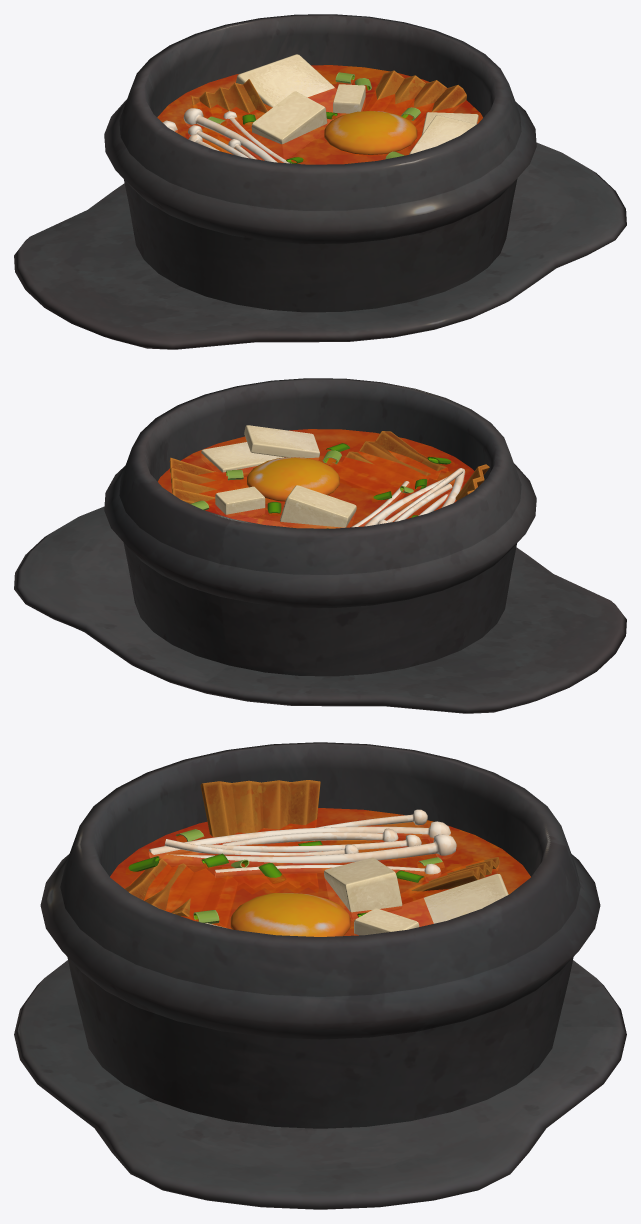
Rendered from kimchi_jjigae.glb.
3 renders of one model, top to bottom at view 1: azimuth 30°, elevation 25°; view 2: azimuth 150°, elevation 25°; view 3: azimuth 270°, elevation 25°, orthographic. The views are drawn at different scales.
Visible parts, largest first — view 1: Pot_Reduced, Soup, Egg_Yolk, Tofu_2_LowRes, Tofu_1_LowRes, Kimchi_Piece, Kimchi_Piece2, Tofu_1_LowRes2, Mushroom_Geo1, Tofu_2_LowRes1, Mushroom_Geo3; view 2: Pot_Reduced, Soup, Kimchi_Piece3, Egg_Yolk, Tofu_2_LowRes, Kimchi_Piece, Tofu_1_LowRes2, Tofu_1_LowRes1, Tofu_2_LowRes1, Mushroom_Geo1, Mushroom_Geo5, Kimchi_Piece1; view 3: Pot_Reduced, Soup, Kimchi_Piece1, Egg_Yolk, Kimchi_Piece3, Tofu_2_LowRes, Mushroom_Geo1, Tofu_1_LowRes, Mushroom_Geo, Kimchi_Piece2, Mushroom_Geo4, Mushroom_Geo2 (+4 smaller).
Part boxes in pixels (x1,y1,x2,y2): Pot_Reduced: (14,14,626,349); Soup: (157,65,482,164); Egg_Yolk: (324,110,417,155); Tofu_2_LowRes: (251,91,327,159); Tofu_1_LowRes: (236,54,336,140); Kimchi_Piece: (364,70,466,144); Kimchi_Piece2: (191,79,267,152); Tofu_1_LowRes2: (409,115,476,154); Mushroom_Geo1: (183,108,277,162); Tofu_2_LowRes1: (333,84,365,118); Mushroom_Geo3: (223,111,291,163); Pot_Reduced: (14,378,626,713); Soup: (158,429,474,528); Kimchi_Piece3: (331,431,447,500); Egg_Yolk: (247,457,339,501); Tofu_2_LowRes: (280,485,356,527); Kimchi_Piece: (169,457,247,511); Tofu_1_LowRes2: (244,425,319,459); Tofu_1_LowRes1: (201,442,283,473); Tofu_2_LowRes1: (215,486,265,517); Mushroom_Geo1: (364,477,454,526); Mushroom_Geo5: (377,468,463,524); Kimchi_Piece1: (439,464,489,508); Pot_Reduced: (14,742,626,1209); Soup: (110,808,530,935); Kimchi_Piece1: (200,780,320,893); Egg_Yolk: (230,893,350,936); Kimchi_Piece3: (125,858,237,927); Tofu_2_LowRes: (324,857,402,920); Mushroom_Geo1: (152,834,456,866); Tofu_1_LowRes: (391,873,508,926); Mushroom_Geo: (149,821,450,857); Kimchi_Piece2: (401,857,499,903); Mushroom_Geo4: (188,828,398,854); Mushroom_Geo2: (200,834,421,852).
Bounding box in the file's own units: 0.0988 × 0.0332 × 0.0736.
2 materials, 2 textured.
